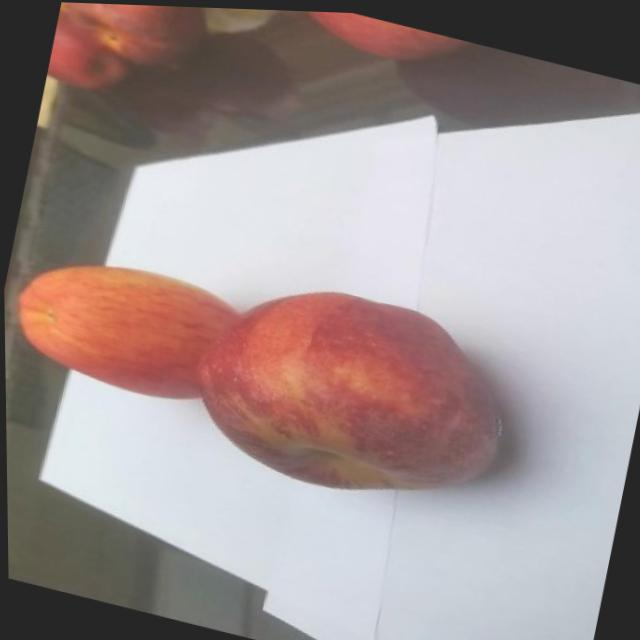Apple: (174, 258, 528, 519), (3, 241, 251, 417), (282, 8, 466, 86), (51, 1, 213, 82), (43, 8, 129, 102)
